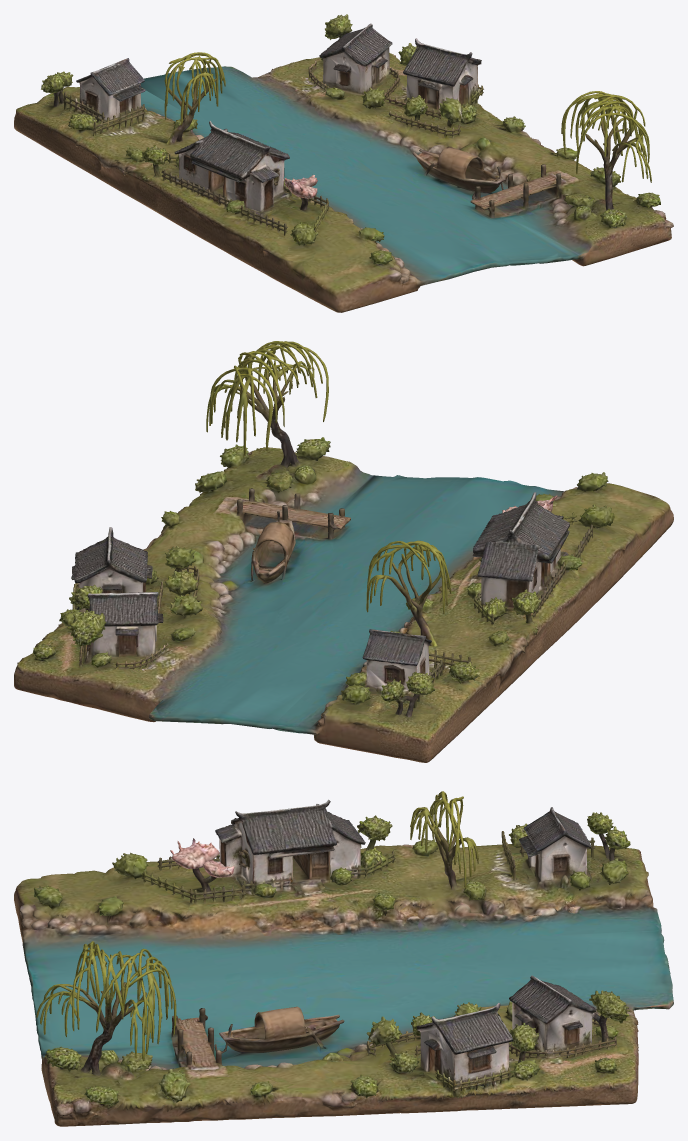
3 renders of one model, top to bottom at view 1: azimuth 30°, elevation 25°; view 2: azimuth 150°, elevation 25°; view 3: azimuth 270°, elevation 25°, orthographic. The views are drawn at different scales.
Parts seen in each view (by area): view 1: tripo_node_2d356a24-700e-4b0c-8f8f-6a06147ad95f; view 2: tripo_node_2d356a24-700e-4b0c-8f8f-6a06147ad95f; view 3: tripo_node_2d356a24-700e-4b0c-8f8f-6a06147ad95f.
Boxes of the visible parts, box(x1,y1,x2,y2) form: tripo_node_2d356a24-700e-4b0c-8f8f-6a06147ad95f: box(14, 14, 673, 312); tripo_node_2d356a24-700e-4b0c-8f8f-6a06147ad95f: box(14, 341, 673, 762); tripo_node_2d356a24-700e-4b0c-8f8f-6a06147ad95f: box(14, 791, 673, 1126).
Bounding box in the file's own units: 0.8233 × 0.2601 × 0.986.
1 material, 1 textured.
